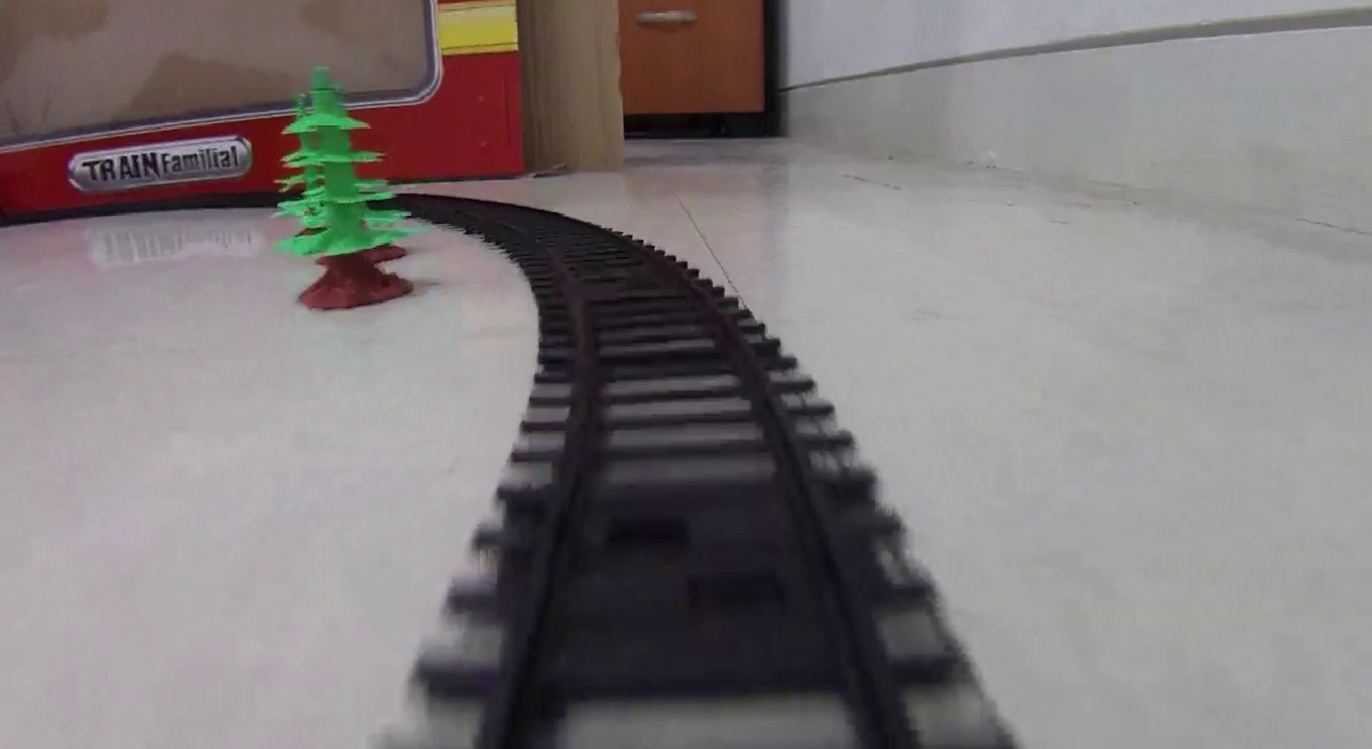tree: (294, 65, 412, 308)
